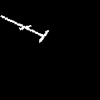double_crochet: (1, 15, 48, 41)
